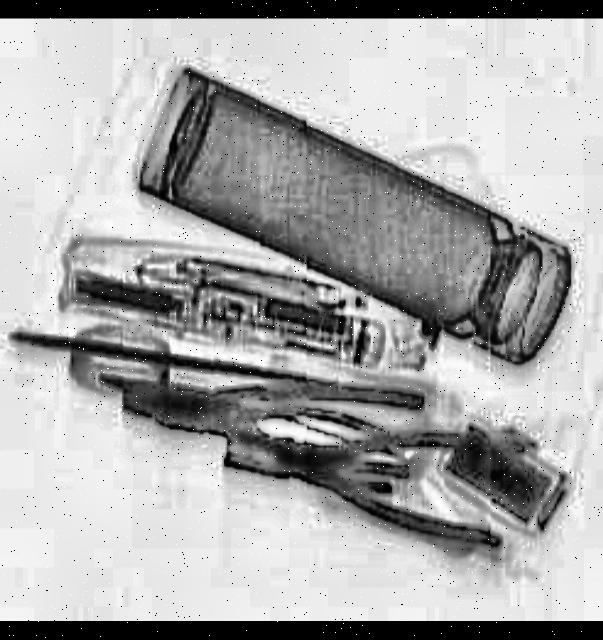Pliers: (122, 351, 428, 482), (265, 398, 522, 548)
